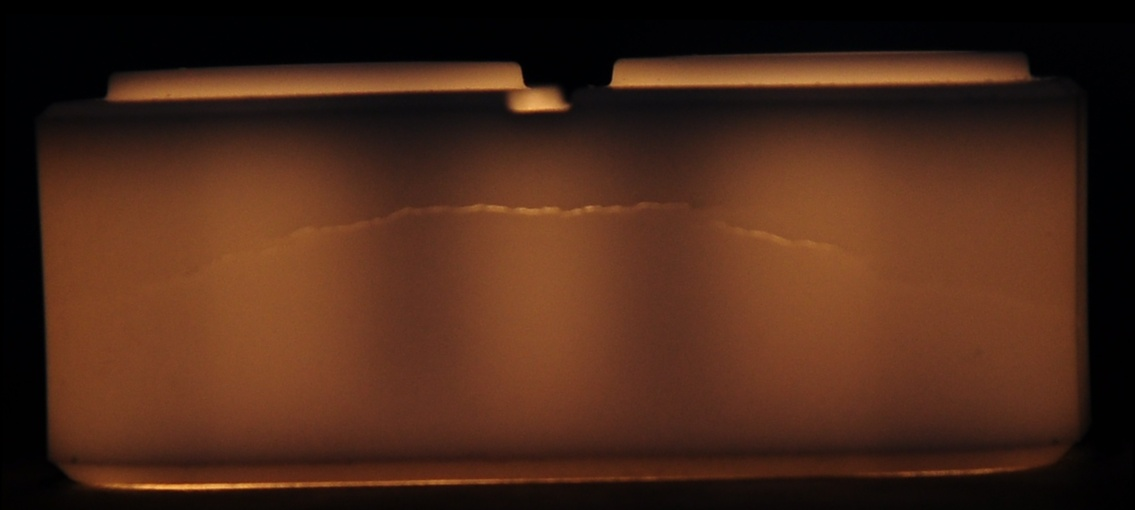flaw: (137, 180, 942, 302)
